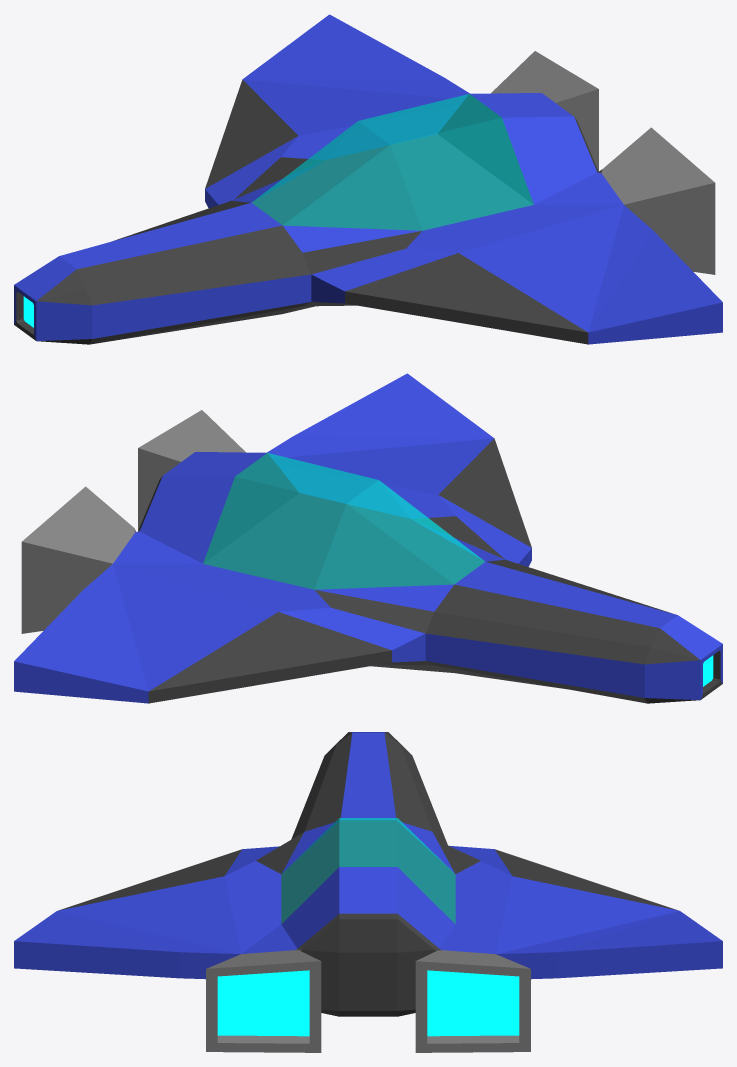
File: ship7.fbx
The picture shows the model from 3 angles, top to bottom: view 1: azimuth 30°, elevation 25°; view 2: azimuth 150°, elevation 25°; view 3: azimuth 270°, elevation 25°; orthographic projection. The views are drawn at different scales.
Parts seen in each view (by area): view 1: Cube; view 2: Cube; view 3: Cube.
Part boxes in pixels (x1,y1,x2,y2): Cube: (14,14,722,344); Cube: (14,373,722,703); Cube: (14,732,722,1052).
Bounding box in the file's own units: 598 × 137 × 679.
